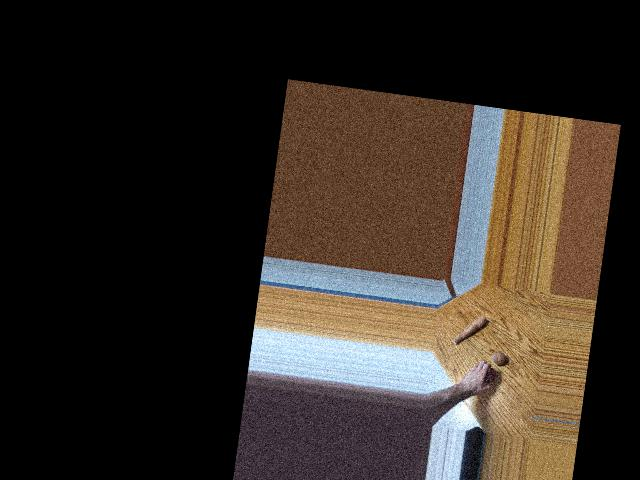onion: (491, 351, 503, 366)
